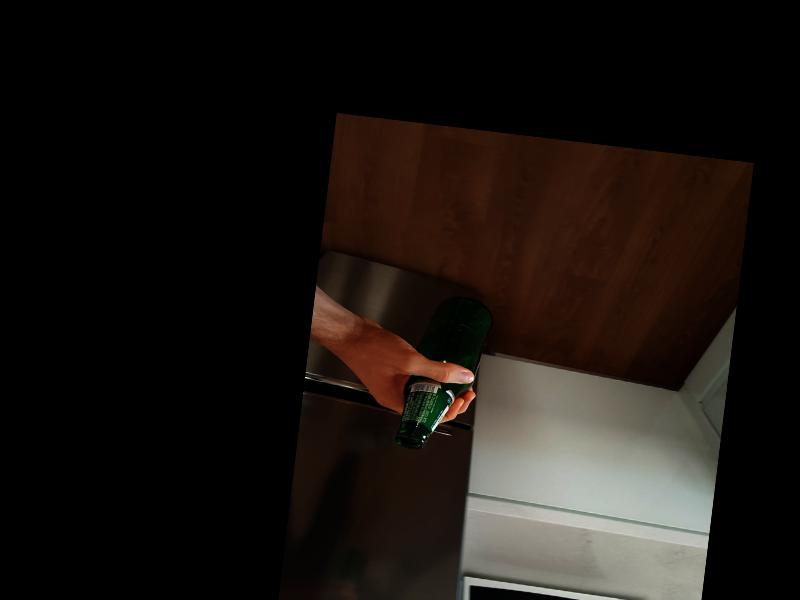Beer: (394, 290, 493, 456)
